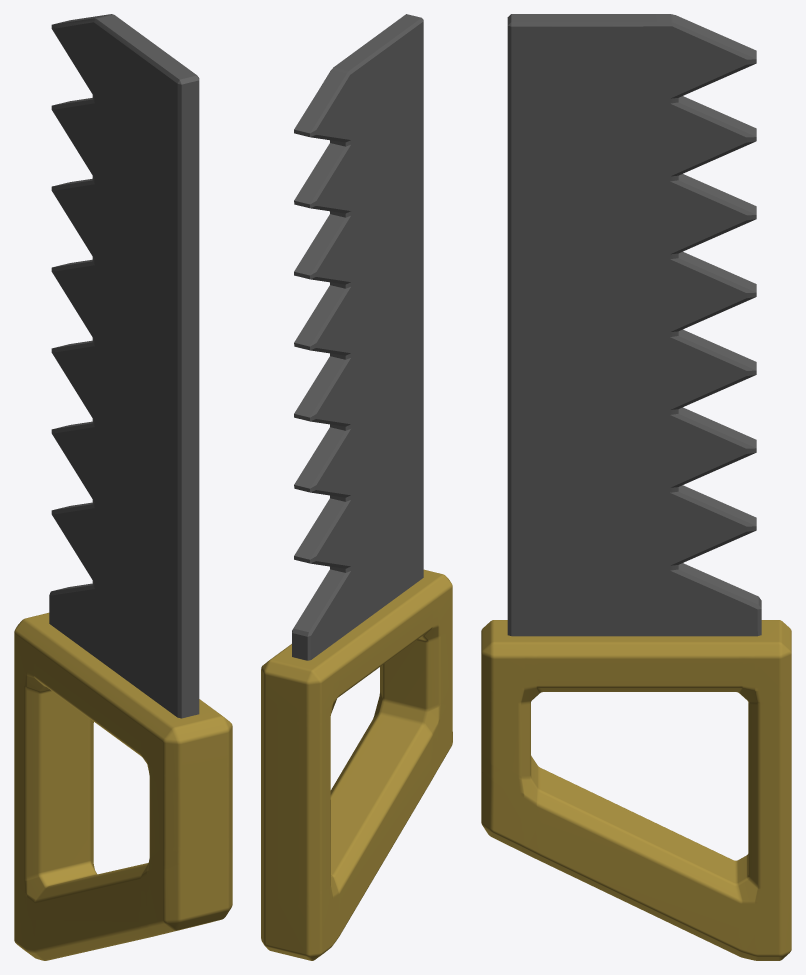
File: saw2.fbx
3 renders of one model, left to right at view 1: azimuth 30°, elevation 25°; view 2: azimuth 150°, elevation 25°; view 3: azimuth 270°, elevation 25°, orthographic. The views are drawn at different scales.
Visible parts, largest first — view 1: saw2; view 2: saw2; view 3: saw2.
Boxes of the visible parts, <box> form: saw2: <box>14,14,232,960</box>; saw2: <box>261,14,452,960</box>; saw2: <box>481,14,791,960</box>.
Size of the model in its own units: 4.65 by 62.33 by 18.83.
